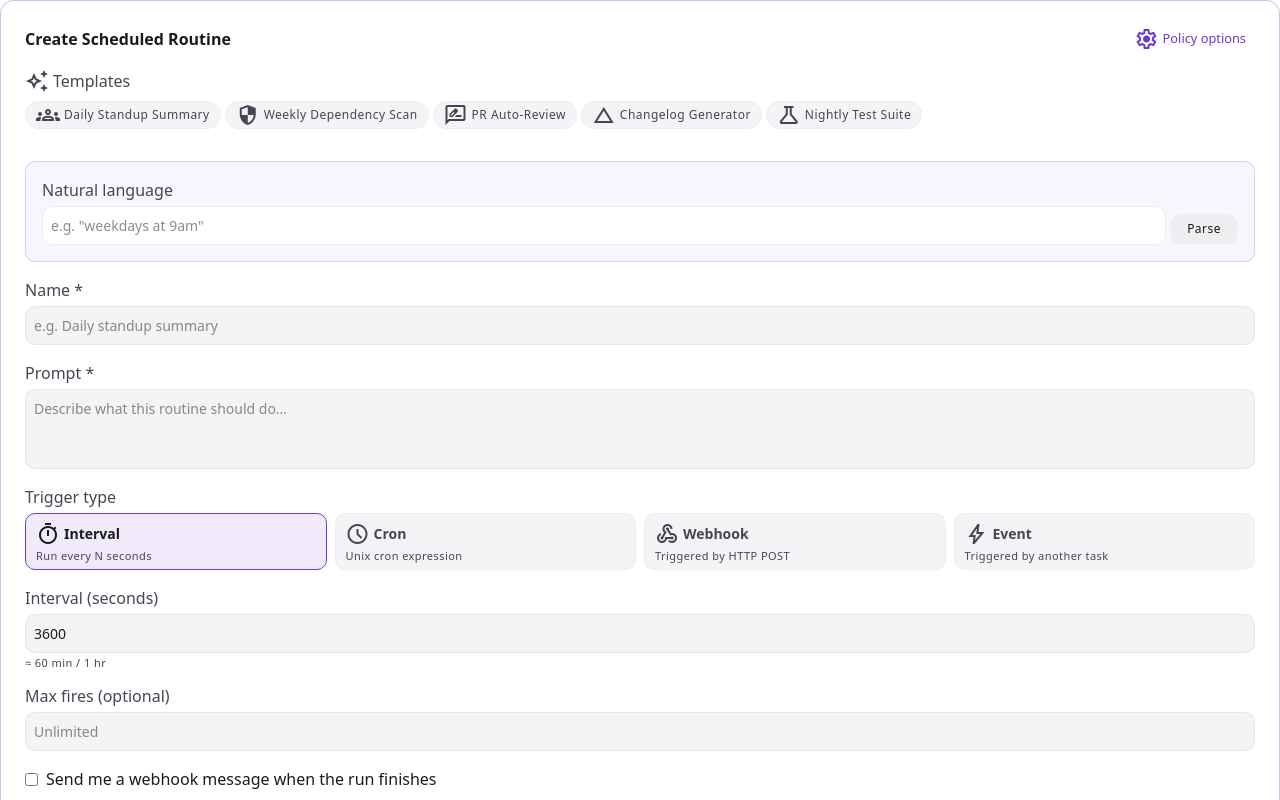
Scenario: ScheduleForm NL cron (P3.1) › parses a natural-language phrase and fills cron field
The image size is (1280, 800).
Note: Switch to cron trigger
Click the text "Cron" at (390, 534), box [374,524,406,544]
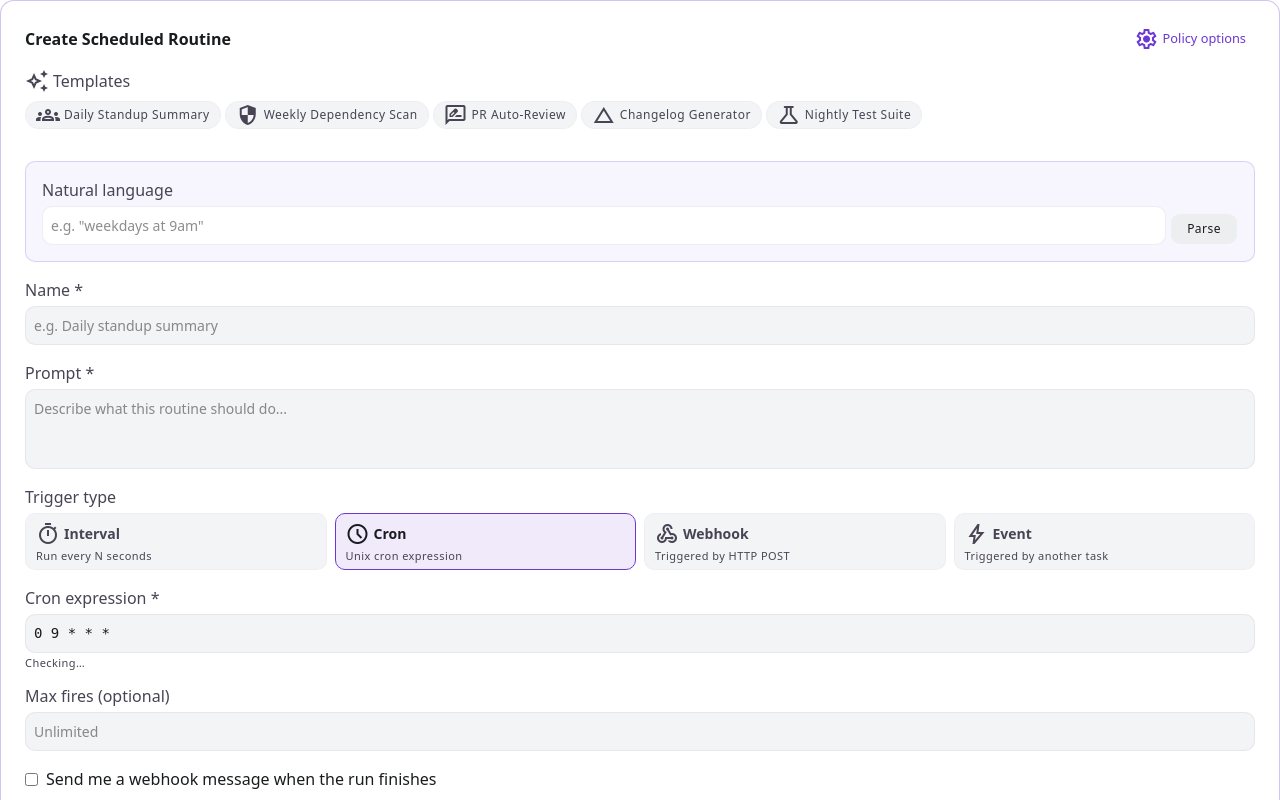
Type "weekdays at 9am" into the field named "Natural language cron input" at (604, 226), box [42,206,1166,245]
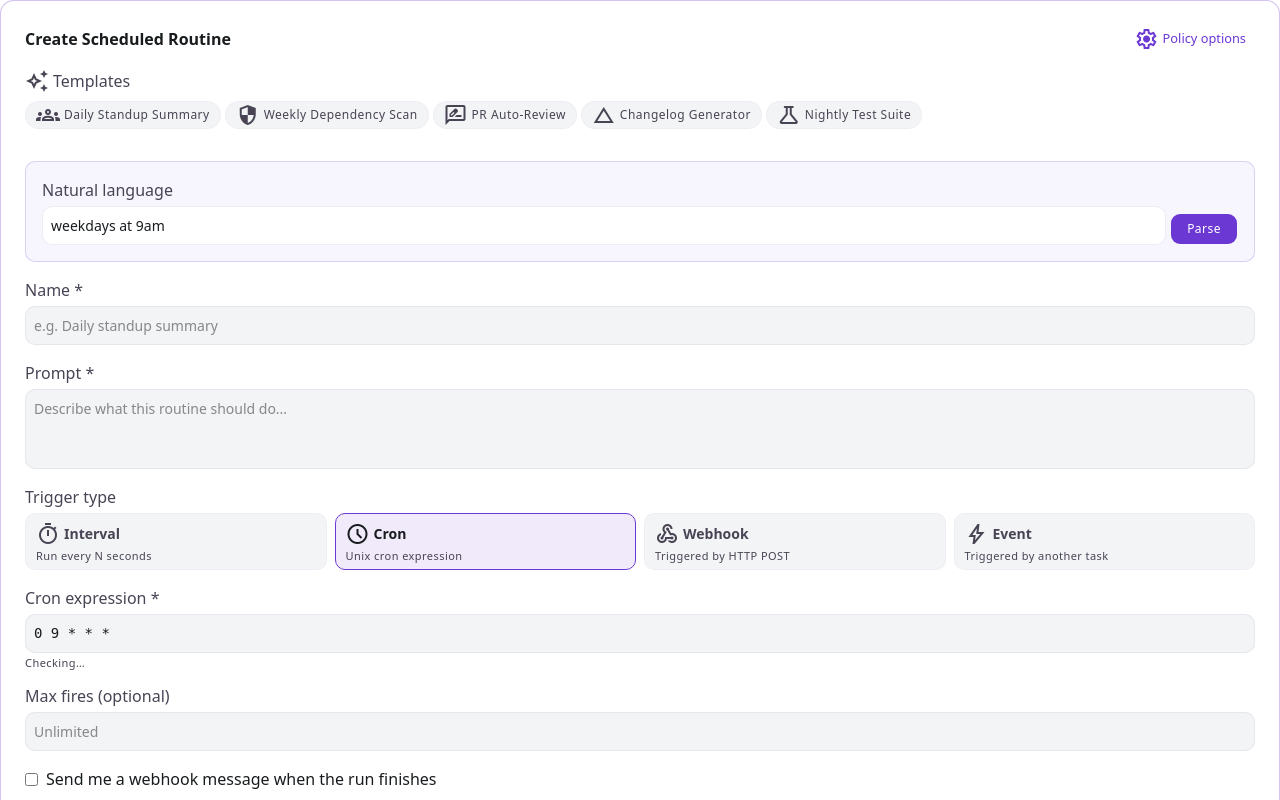
Click the button "Parse" at (1204, 229), box [1170,213,1238,245]
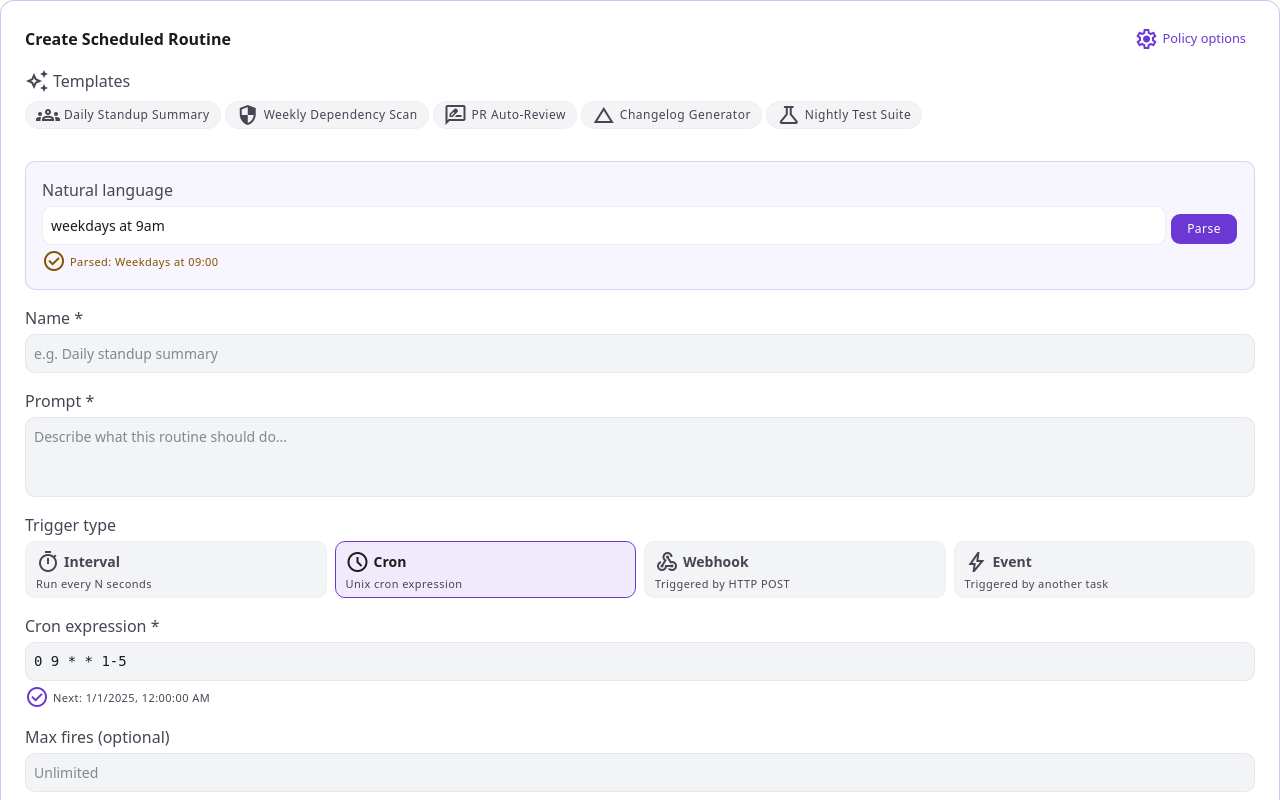
Expected: the field with placeholder "0 9 * * *" holds "0 9 * * 1-5", [25,642,1255,681]
Expected: the text "Parsed: Weekdays at 09:00" is shown, [42,247,218,275]
